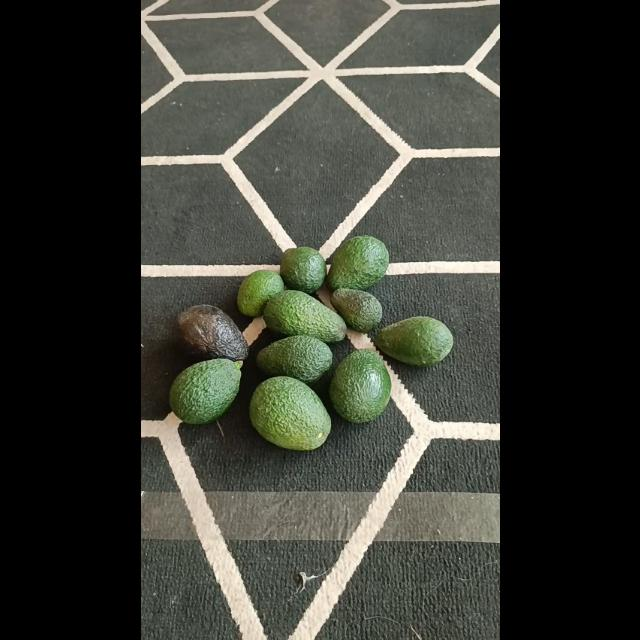Primera: (248, 376, 330, 448), (168, 356, 242, 426), (328, 348, 392, 422), (262, 290, 348, 342), (175, 304, 248, 362), (374, 316, 454, 366), (255, 336, 333, 382), (327, 235, 389, 291)
Segunda: (235, 270, 282, 318), (280, 246, 326, 294)
Tercera: (330, 289, 382, 333)
